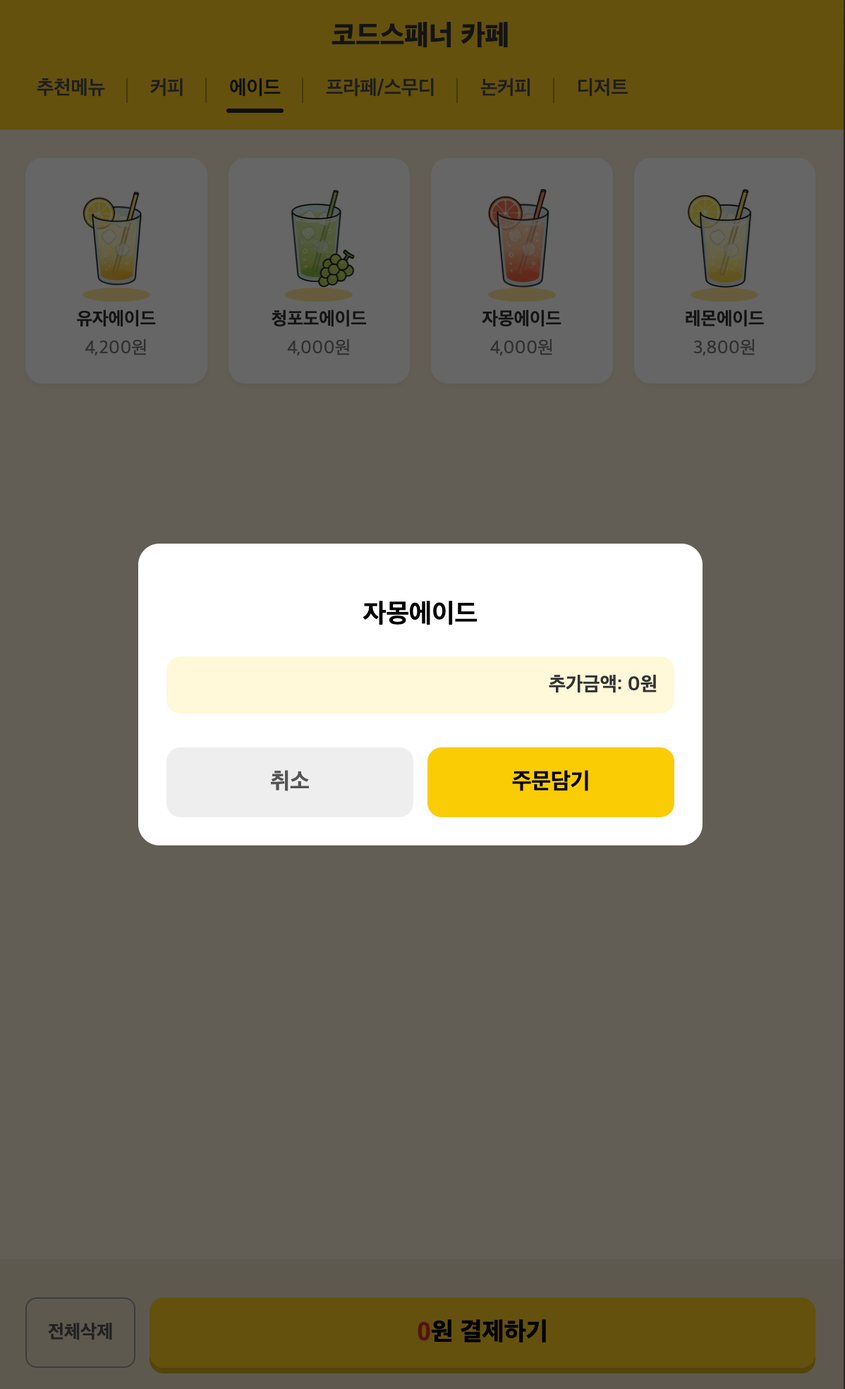action_button: (167, 747, 414, 818), (427, 747, 675, 817)
popup_modal: (137, 543, 703, 846)
